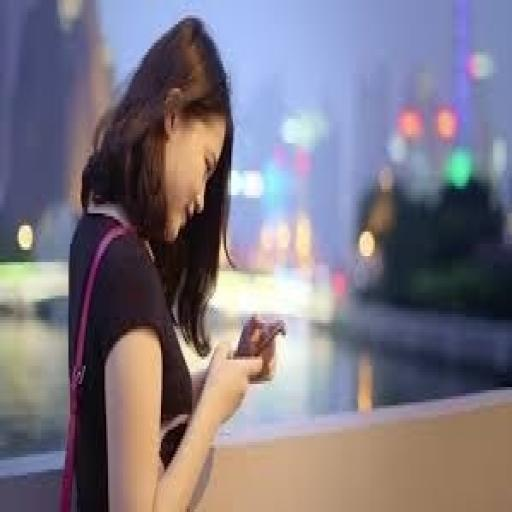texting: (58, 12, 284, 506)
